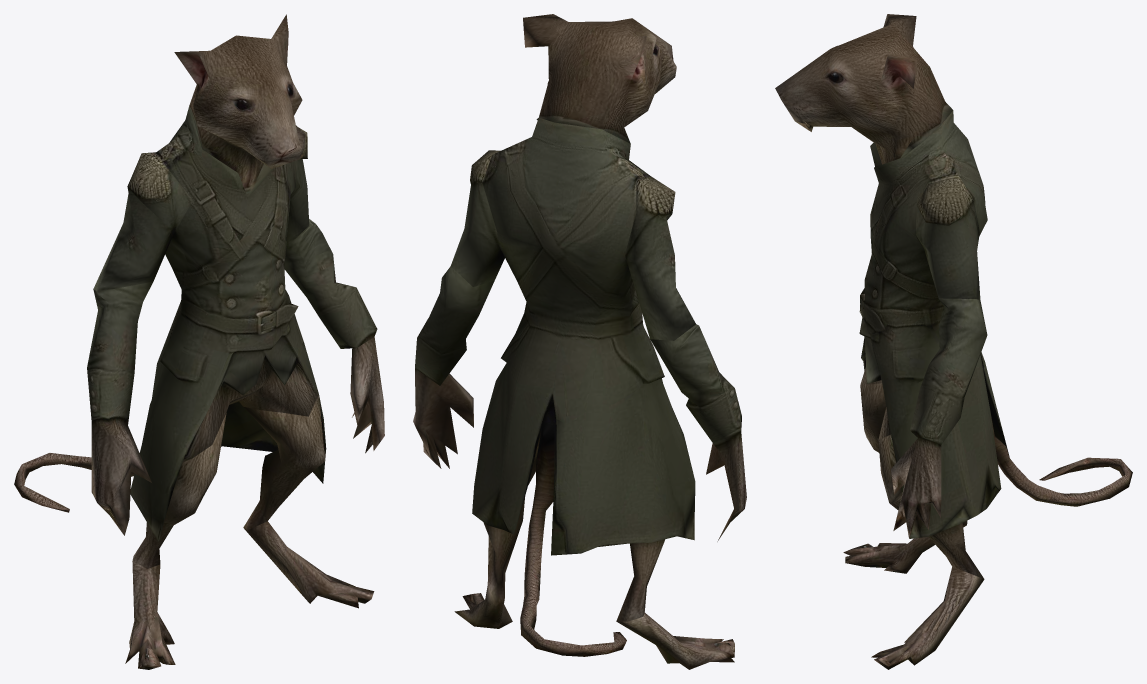
File: cavalry_spd_gibs.glb
3 views of the same model, side by side, from view 1: azimuth 30°, elevation 25°; view 2: azimuth 150°, elevation 25°; view 3: azimuth 270°, elevation 25° (orthographic). The views are drawn at different scales.
Visible parts, largest first — view 1: Body.001, Head.001, Forarm.R.001, Forarm.L.001, Arm.R.001, Upleg.L.001, Upleg.R.001, Leg.L.001, Leg.R.001, ARm.L.001; view 2: Body.001, Head.001, Forarm.L.001, Forarm.R.001, Arm.R.001, ARm.L.001, Leg.R.001, Upleg.R.001, Upleg.L.001, Leg.L.001; view 3: Body.001, Head.001, Forarm.L.001, ARm.L.001, Leg.L.001, Upleg.L.001, Leg.R.001, Upleg.R.001.
Boxes of the visible parts, x1=… form: Body.001: x1=14, y1=106, x2=326, y2=542; Head.001: x1=174, y1=14, x2=305, y2=186; Forarm.R.001: x1=87, y1=282, x2=152, y2=535; Forarm.L.001: x1=284, y1=219, x2=384, y2=453; Arm.R.001: x1=93, y1=152, x2=192, y2=291; Upleg.L.001: x1=243, y1=394, x2=326, y2=530; Upleg.R.001: x1=132, y1=413, x2=226, y2=568; Leg.L.001: x1=244, y1=521, x2=374, y2=608; Leg.R.001: x1=125, y1=561, x2=175, y2=669; ARm.L.001: x1=286, y1=127, x2=309, y2=245; Body.001: x1=472, y1=118, x2=695, y2=656; Head.001: x1=523, y1=14, x2=676, y2=143; Forarm.L.001: x1=413, y1=266, x2=494, y2=468; Forarm.R.001: x1=650, y1=324, x2=746, y2=541; Arm.R.001: x1=625, y1=176, x2=695, y2=340; ARm.L.001: x1=451, y1=150, x2=504, y2=286; Leg.R.001: x1=617, y1=612, x2=734, y2=669; Upleg.R.001: x1=616, y1=539, x2=665, y2=621; Upleg.L.001: x1=483, y1=446, x2=538, y2=604; Leg.L.001: x1=454, y1=584, x2=512, y2=628; Body.001: x1=859, y1=110, x2=1132, y2=538; Head.001: x1=775, y1=14, x2=952, y2=164; Forarm.L.001: x1=891, y1=298, x2=987, y2=538; ARm.L.001: x1=916, y1=178, x2=980, y2=299; Leg.L.001: x1=871, y1=567, x2=984, y2=669; Upleg.L.001: x1=878, y1=434, x2=983, y2=578; Leg.R.001: x1=843, y1=525, x2=966, y2=573; Upleg.R.001: x1=860, y1=383, x2=967, y2=525.
Size of the model in its own units: 0.5126 by 0.9729 by 0.5441.
2 materials, 1 textured.
